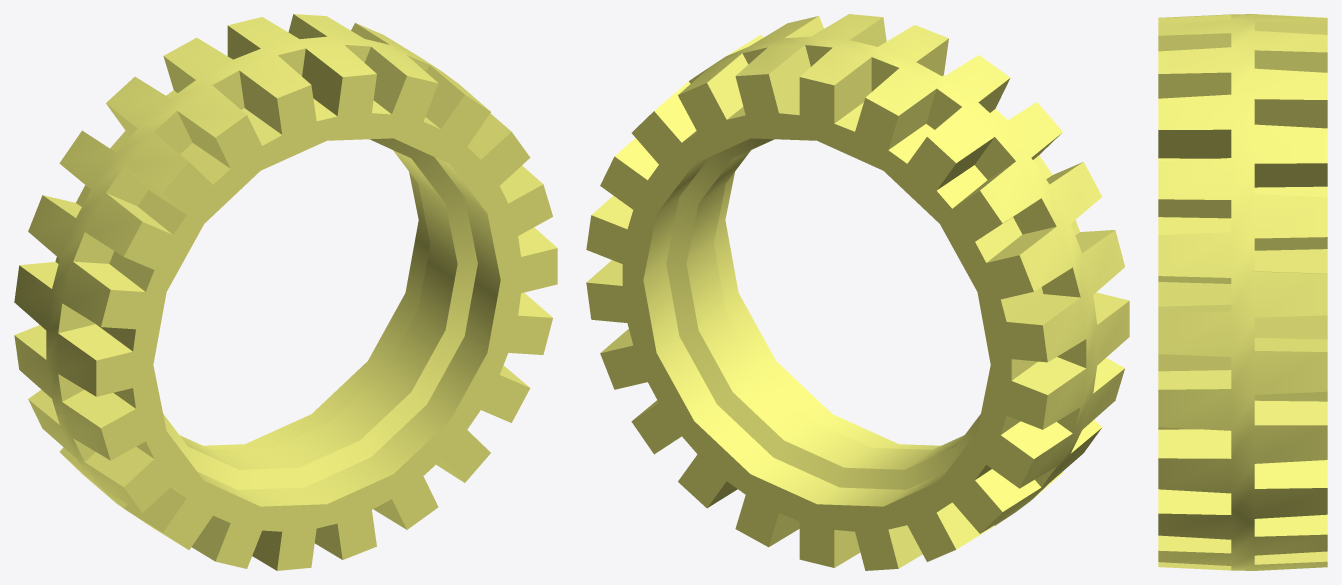
The picture shows the model from 3 angles, left to right: view 1: azimuth 30°, elevation 25°; view 2: azimuth 150°, elevation 25°; view 3: azimuth 270°, elevation 25°; orthographic projection. The views are drawn at different scales.
Parts seen in each view (by area): view 1: 61254.dat; view 2: 61254.dat; view 3: 61254.dat.
Part boxes in pixels (x1,y1,x2,y2): 61254.dat: (14,14,557,570); 61254.dat: (586,14,1129,570); 61254.dat: (1158,14,1327,570).
Bounding box in the file's own units: 0.0237 × 0.0237 × 0.0072.
